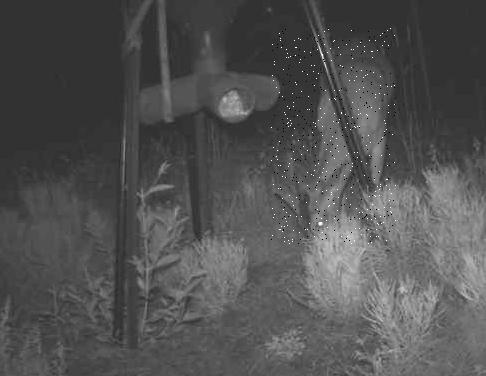Deer: (271, 29, 396, 245)
